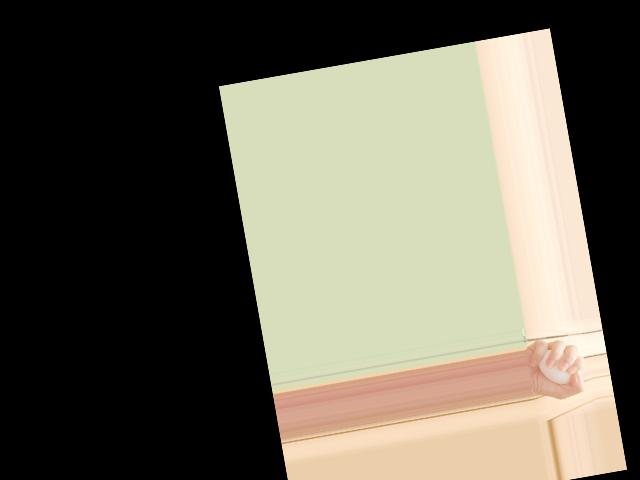egg: (535, 345, 575, 387)
